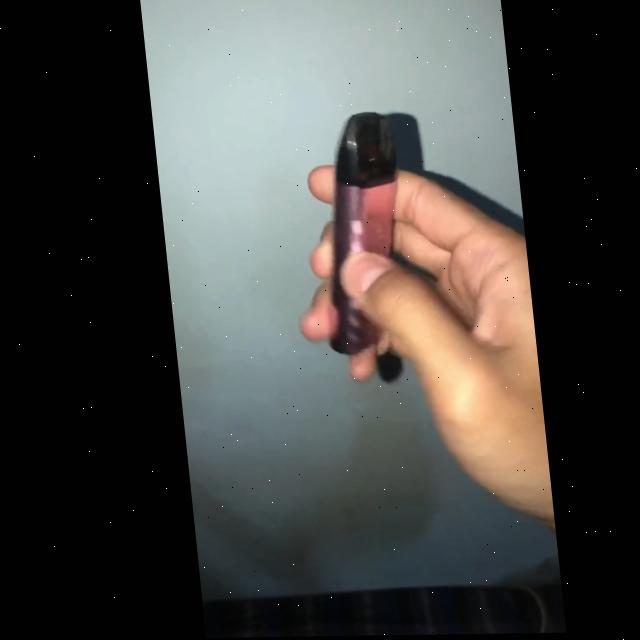vape: (301, 111, 411, 355)
